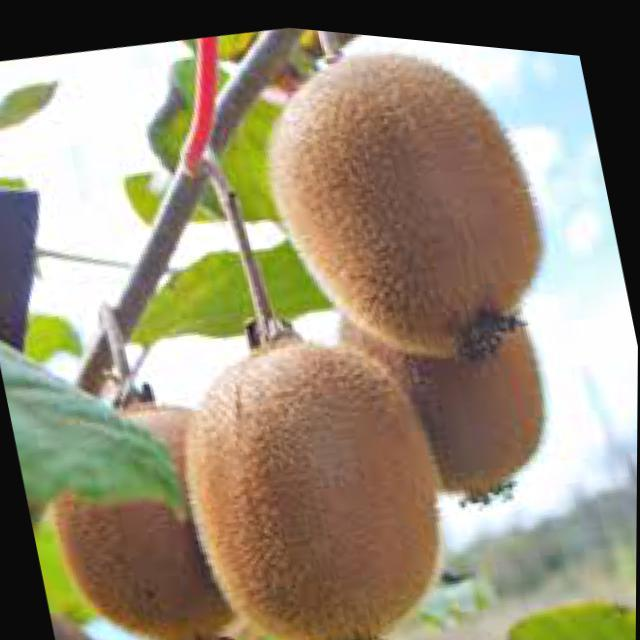kiwi: (250, 20, 568, 393), (159, 298, 472, 640), (334, 260, 567, 519), (33, 384, 257, 640)
